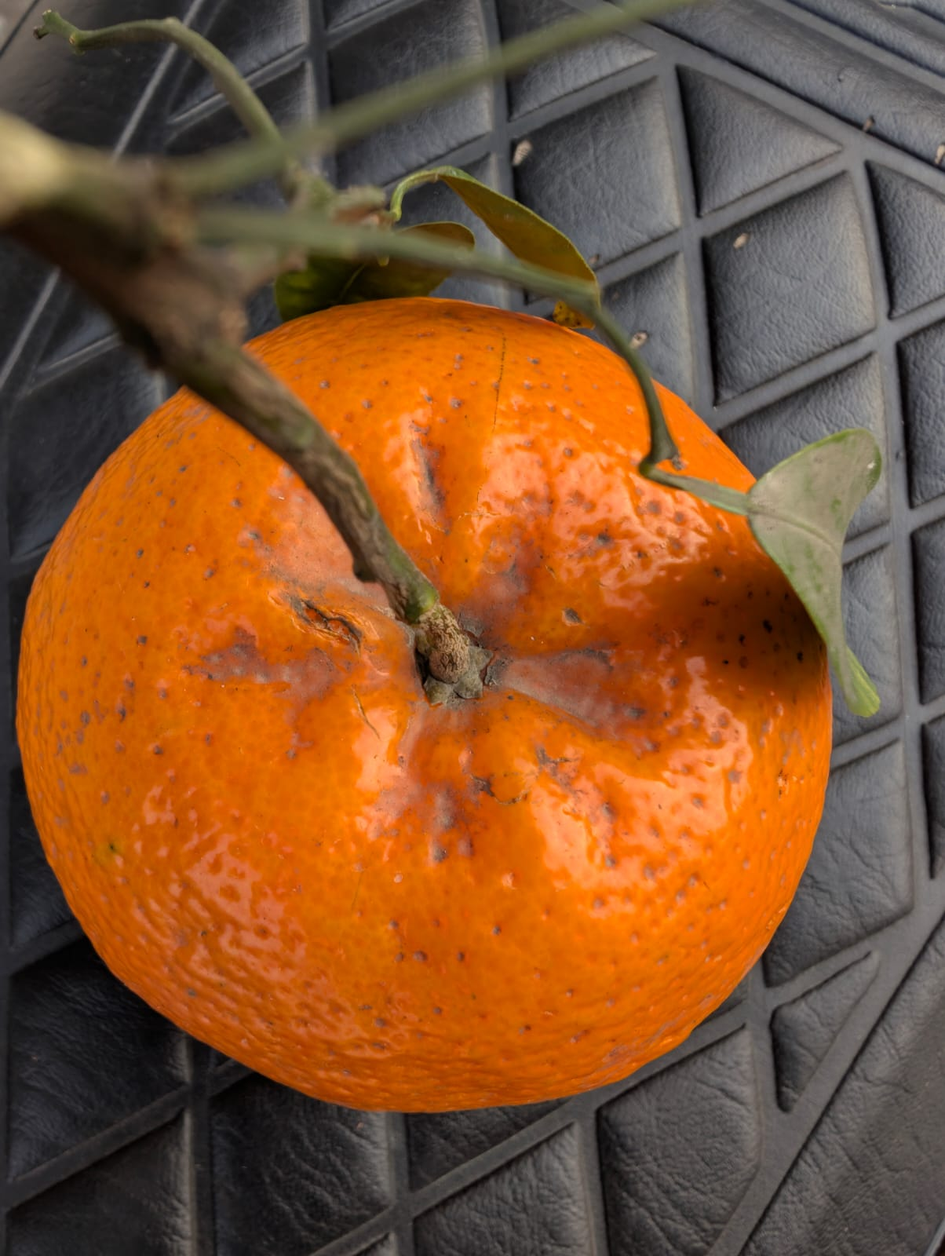orange: (106, 239, 771, 1204)
